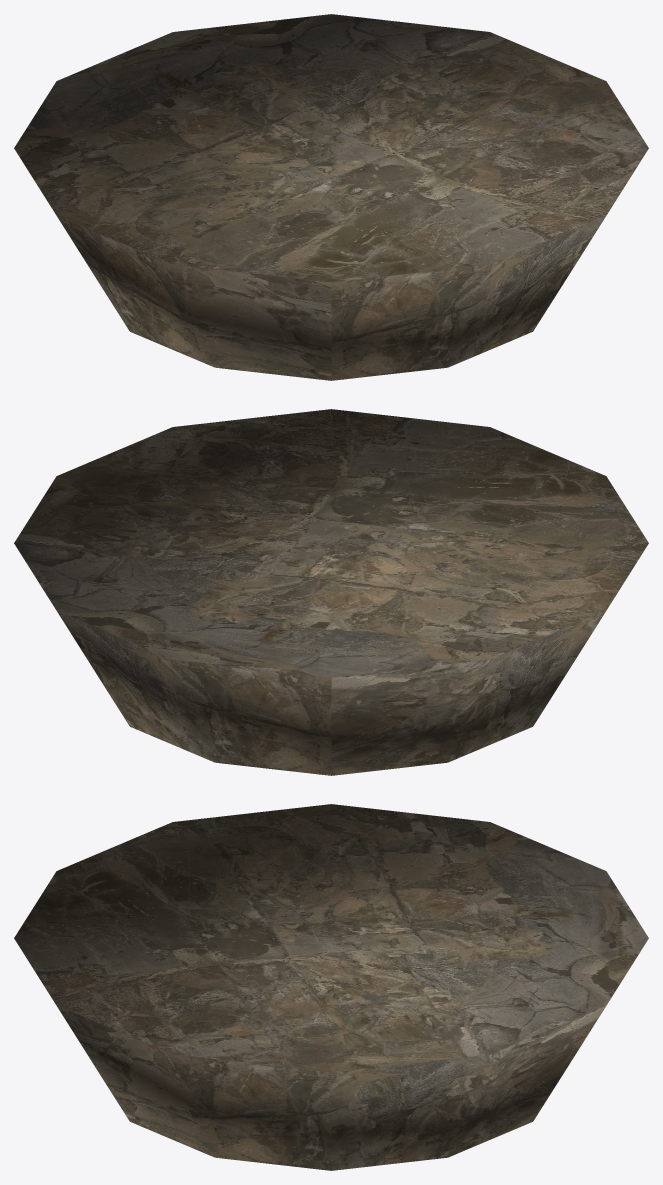
The model's file is crypt_bowl.glb.
The picture shows the model from 3 angles, top to bottom: view 1: azimuth 30°, elevation 25°; view 2: azimuth 150°, elevation 25°; view 3: azimuth 270°, elevation 25°; orthographic projection.
Visible parts, largest first — view 1: crypt_bowl.001; view 2: crypt_bowl.001; view 3: crypt_bowl.001.
Boxes of the visible parts, bbox=[...] form: crypt_bowl.001: bbox=[14, 14, 648, 380]; crypt_bowl.001: bbox=[14, 409, 648, 775]; crypt_bowl.001: bbox=[14, 804, 648, 1170].
Size of the model in its own units: 1.5 by 0.3499 by 1.5.
Materials: 1 (1 with a texture image).
